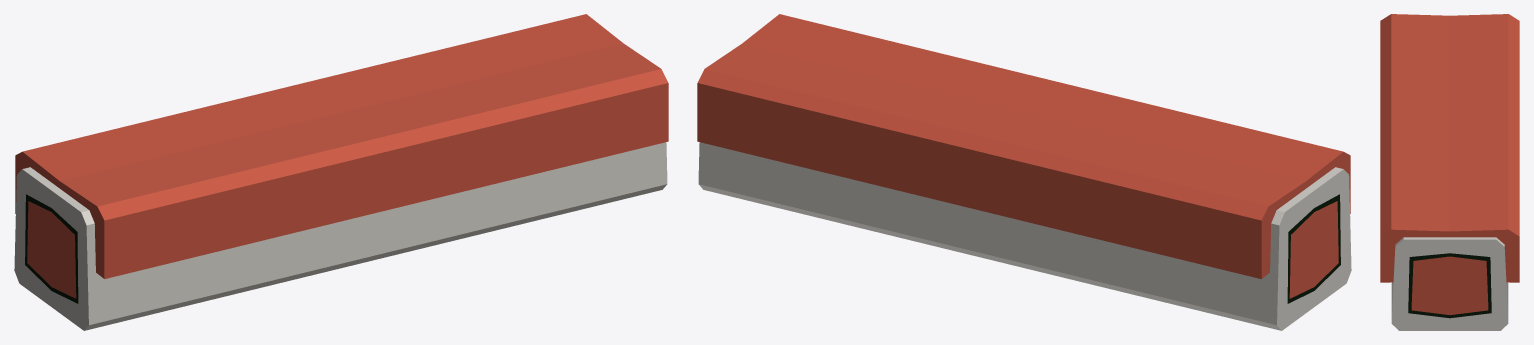
Rendered from uramakiDragonRoll.fbx.
3 views of the same model, side by side, from view 1: azimuth 30°, elevation 25°; view 2: azimuth 150°, elevation 25°; view 3: azimuth 270°, elevation 25° (orthographic). The views are drawn at different scales.
Visible parts, largest first — view 1: uramakiDragonRoll; view 2: uramakiDragonRoll; view 3: uramakiDragonRoll.
Boxes of the visible parts, box(x1,y1,x2,y2) form: uramakiDragonRoll: box(14, 14, 668, 330); uramakiDragonRoll: box(697, 14, 1351, 330); uramakiDragonRoll: box(1380, 14, 1519, 330).
Bounding box in the file's own units: 28.82 × 6.01 × 7.68.
Materials: 1 (1 with a texture image).
